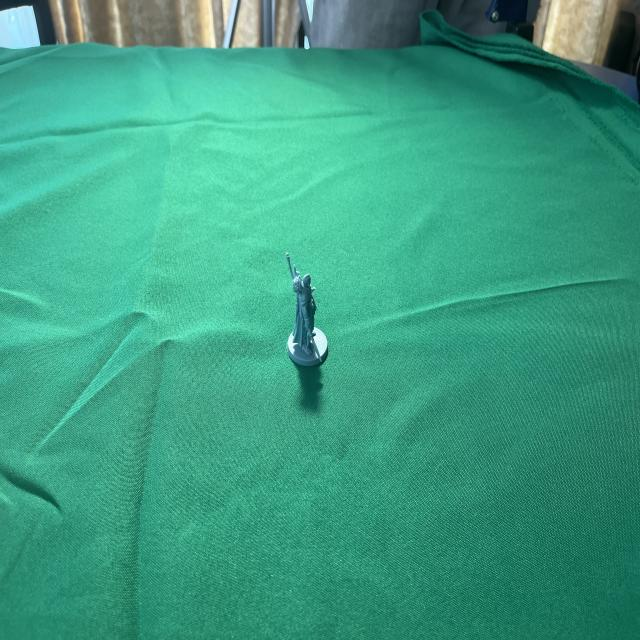isis_follower: (279, 245, 334, 374)
